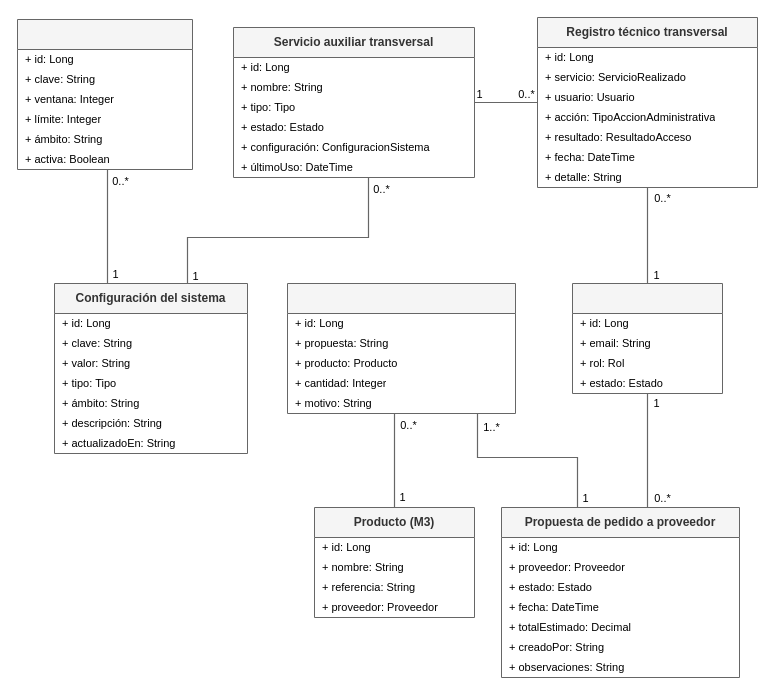
Image size: 775x695. Some labels were removed from this diagram. The shapes that lost their labels are listed below. From the top down, each one's box as (x1, y1, x2, y2) in pixels, then its label:
(16, 18, 192, 170): Política de rate limiting
(286, 282, 516, 414): Línea de propuesta a proveedor
(572, 282, 722, 394): Usuario (M1)
